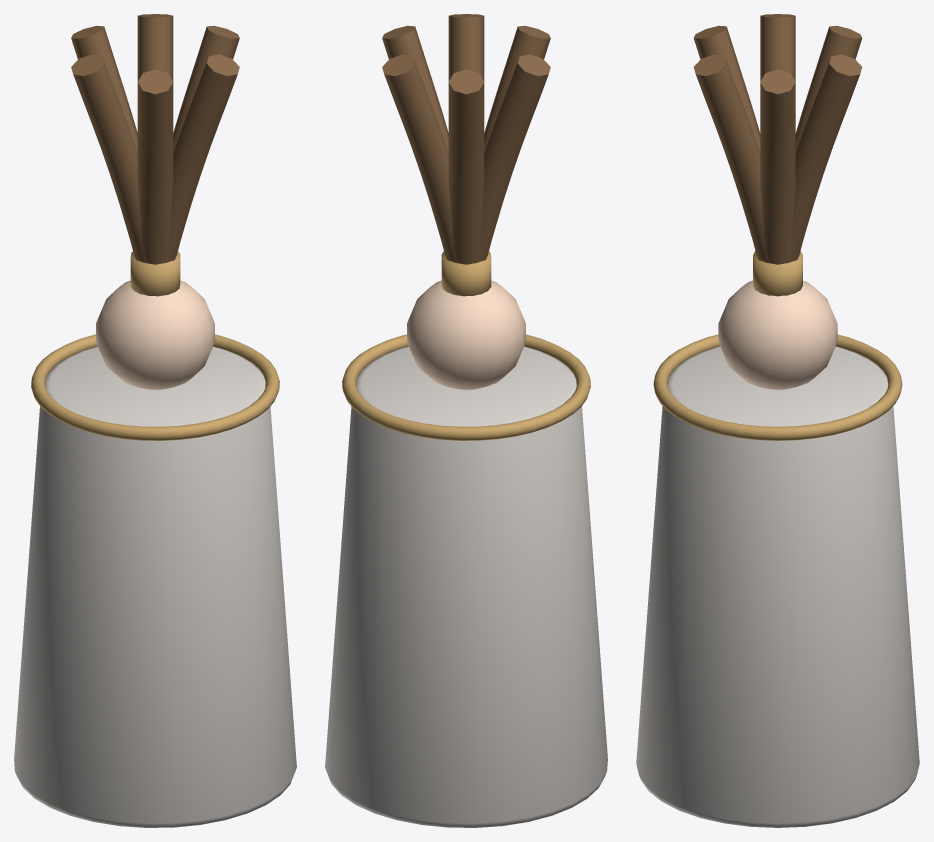
File: furn_diffuser.glb
3 views of the same model, side by side, from view 1: azimuth 30°, elevation 25°; view 2: azimuth 150°, elevation 25°; view 3: azimuth 270°, elevation 25° (orthographic).
Parts seen in each view (by area): view 1: Cone; view 2: Cone; view 3: Cone.
Part boxes in pixels (x1,y1,x2,y2): Cone: (14, 14, 296, 827); Cone: (325, 14, 607, 827); Cone: (636, 14, 919, 827).
Bounding box in the file's own units: 0.3984 × 1.13 × 0.3984.
